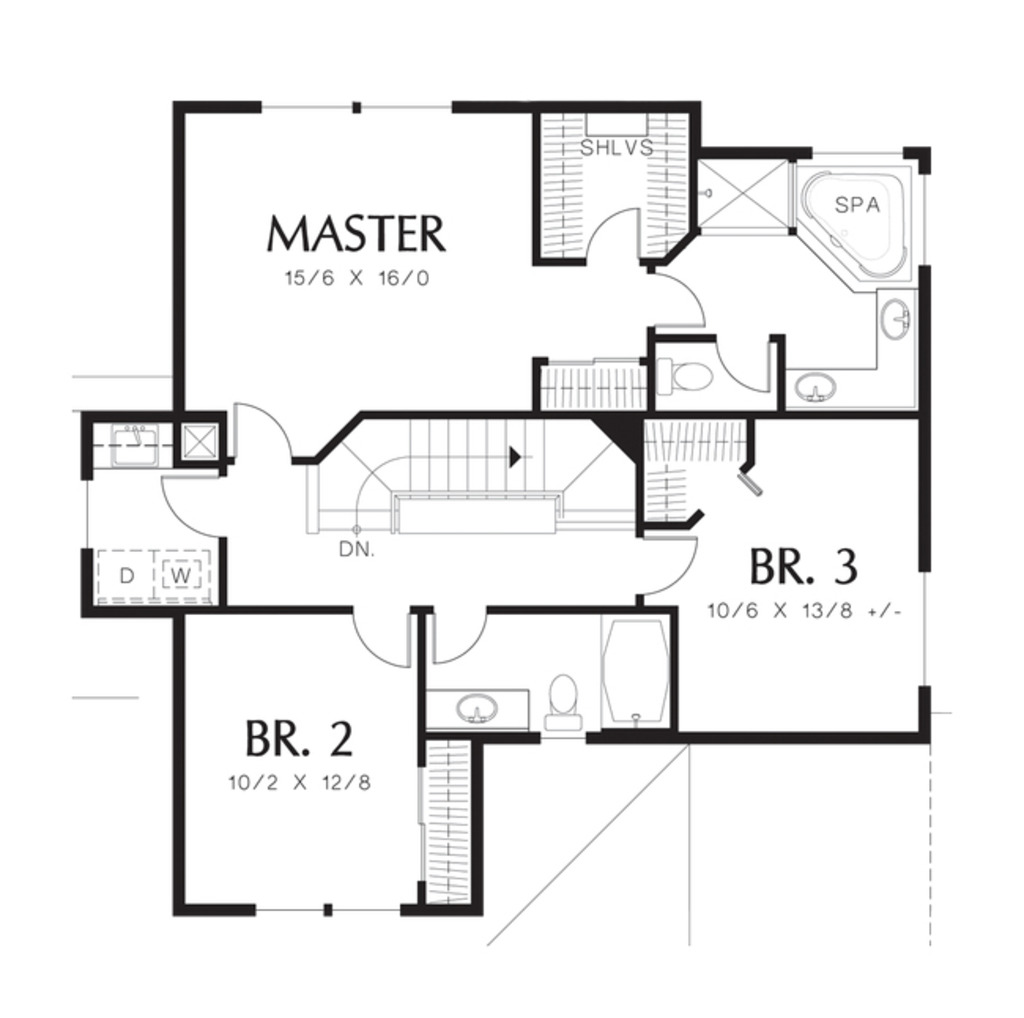door: (637, 263, 721, 330), (708, 324, 783, 398), (629, 532, 702, 608), (154, 470, 233, 540), (224, 394, 298, 467), (341, 603, 414, 668), (424, 606, 495, 668), (583, 202, 649, 268)
large_sink: (645, 333, 725, 402), (537, 673, 587, 735)
small_sink: (416, 687, 529, 729), (873, 284, 921, 371), (783, 370, 872, 408)
stairs: (303, 405, 640, 538)
tub: (594, 606, 672, 729)
window: (259, 94, 460, 113), (252, 898, 405, 921), (914, 571, 937, 689), (70, 475, 103, 541)
